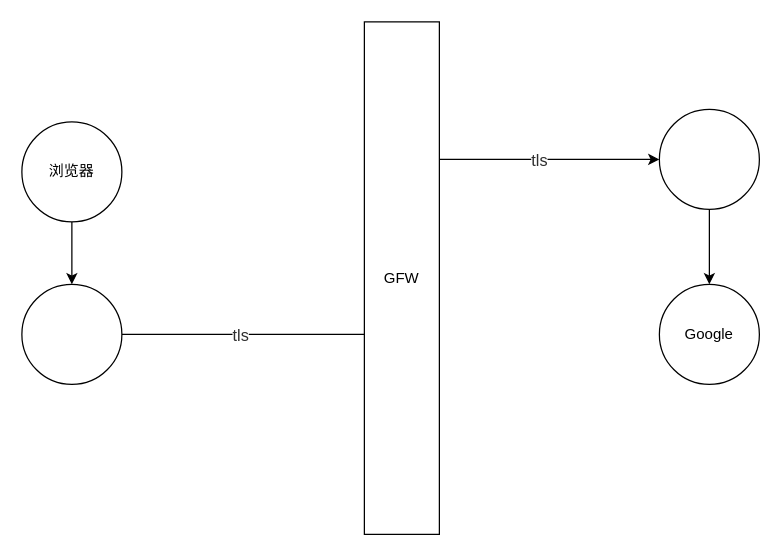
This 781x556 diagram has some shape labels left out. Each missing label, with the box of its shape:
socks5: (21, 283, 122, 384)
trojan: (658, 108, 759, 209)
